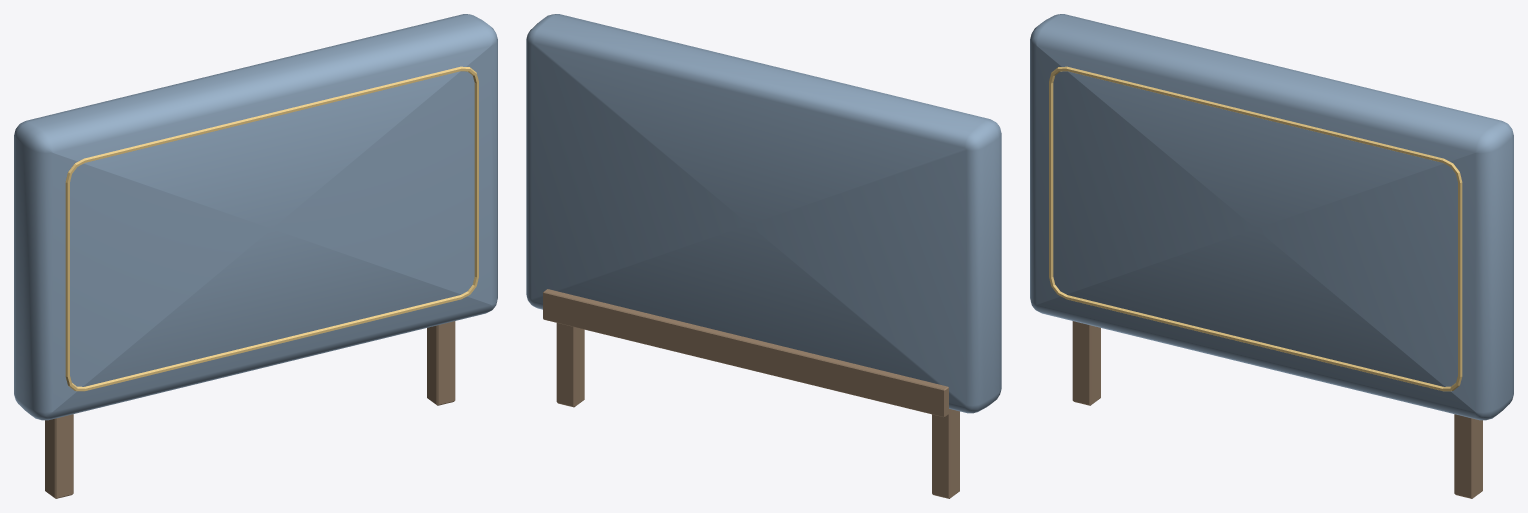
Rendered from bedroom-and-living-room-furniture-headboard-upholstere-909f4430.glb.
3 views of the same model, side by side, from view 1: azimuth 30°, elevation 25°; view 2: azimuth 150°, elevation 25°; view 3: azimuth 330°, elevation 25° (orthographic).
Visible parts, largest first — view 1: headboard-upholstered-queen; view 2: headboard-upholstered-queen; view 3: headboard-upholstered-queen.
Part boxes in pixels (x1=…): headboard-upholstered-queen: x1=14, y1=14, x2=497, y2=498; headboard-upholstered-queen: x1=526, y1=14, x2=1001, y2=498; headboard-upholstered-queen: x1=1030, y1=14, x2=1513, y2=498.
Size of the model in its own units: 1.71 by 1.32 by 0.2419.
